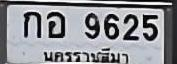2: (122, 13, 138, 39)
5: (142, 14, 157, 40)
6: (103, 13, 118, 39)
9: (84, 12, 99, 38)
A01: (23, 11, 40, 37)
A43: (46, 11, 64, 37)
NMA: (40, 45, 131, 64)
